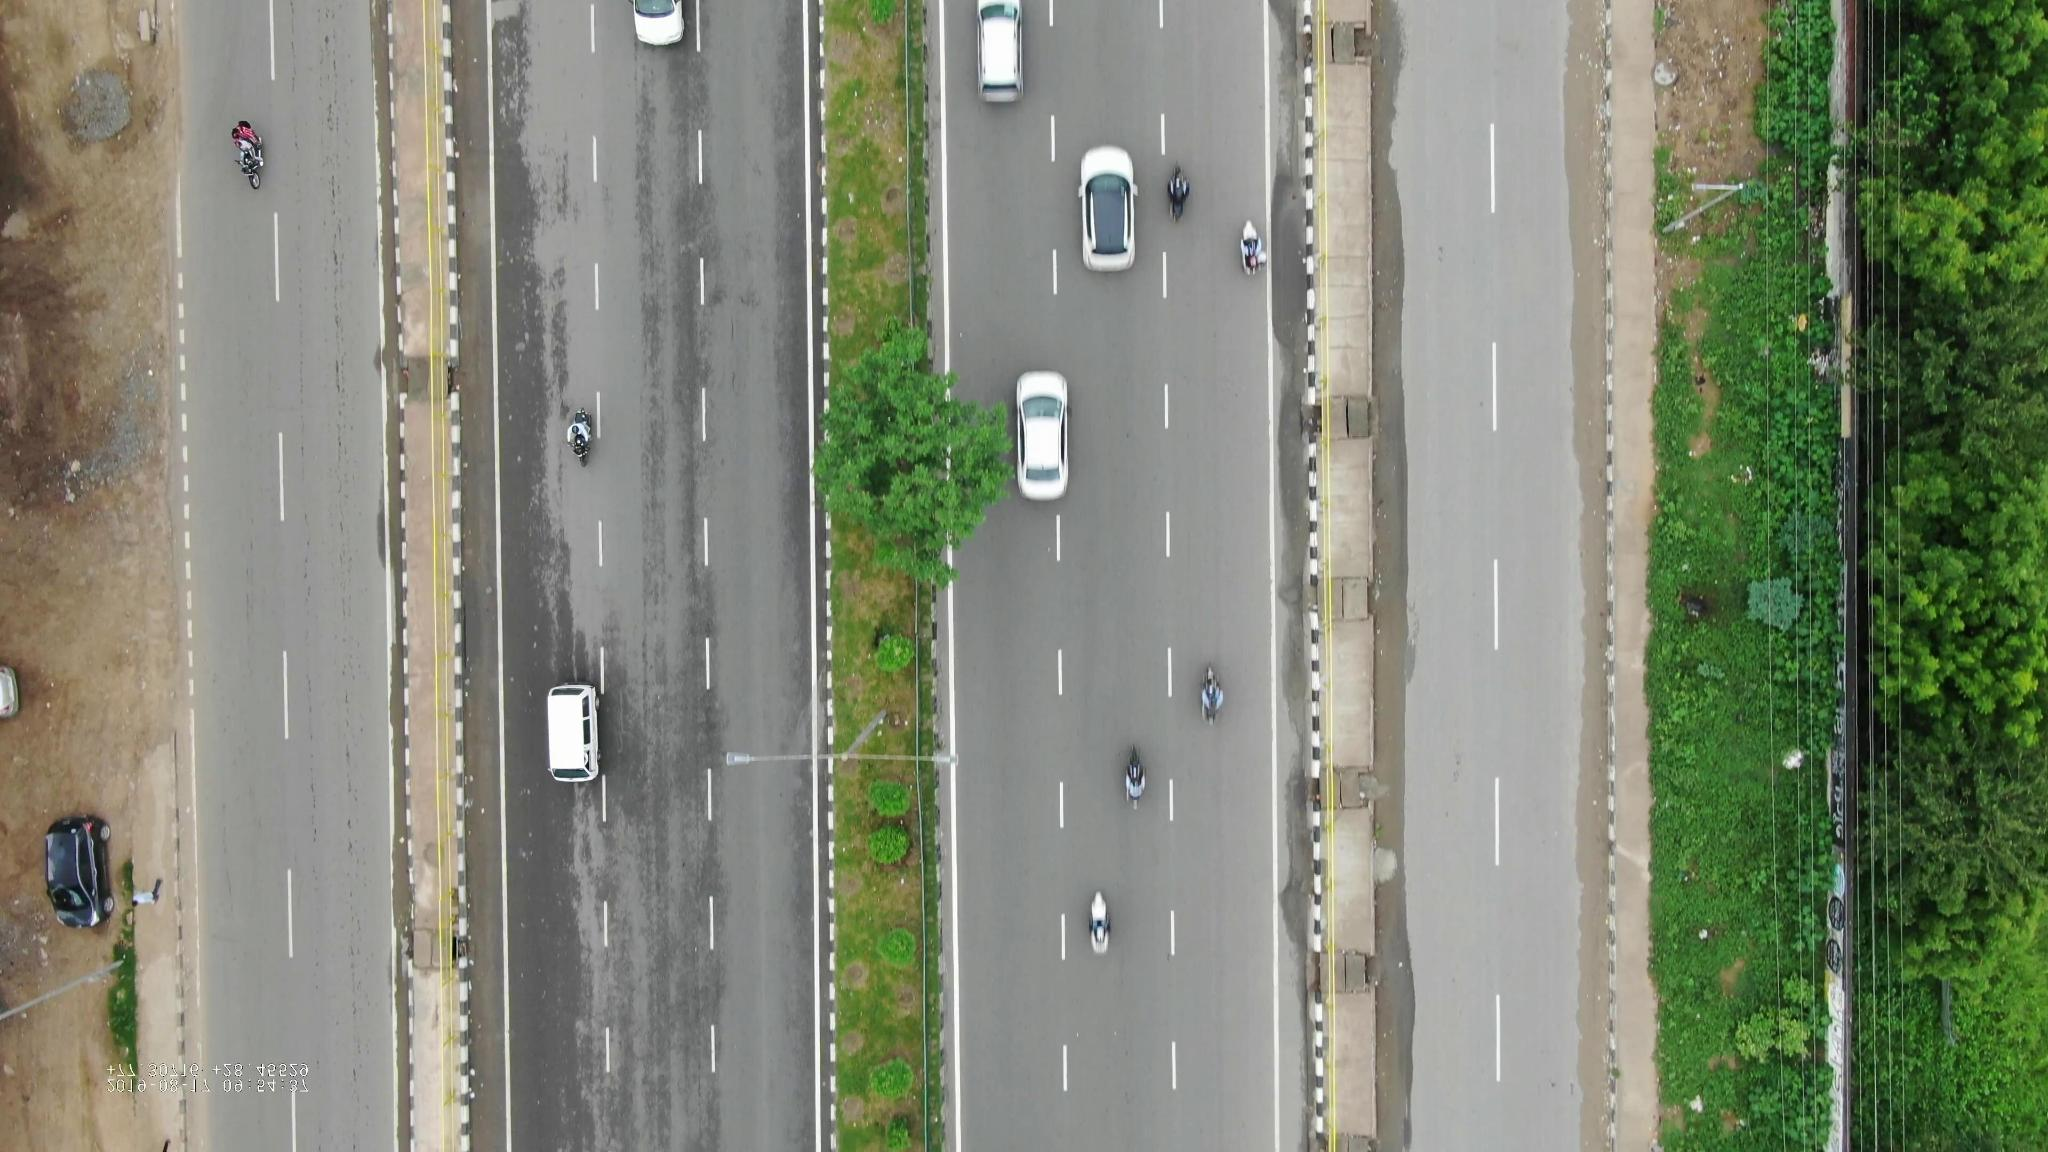Muddy_road: (1567, 49, 1609, 461), (1577, 768, 1619, 1149), (138, 457, 196, 719), (176, 813, 208, 999)
